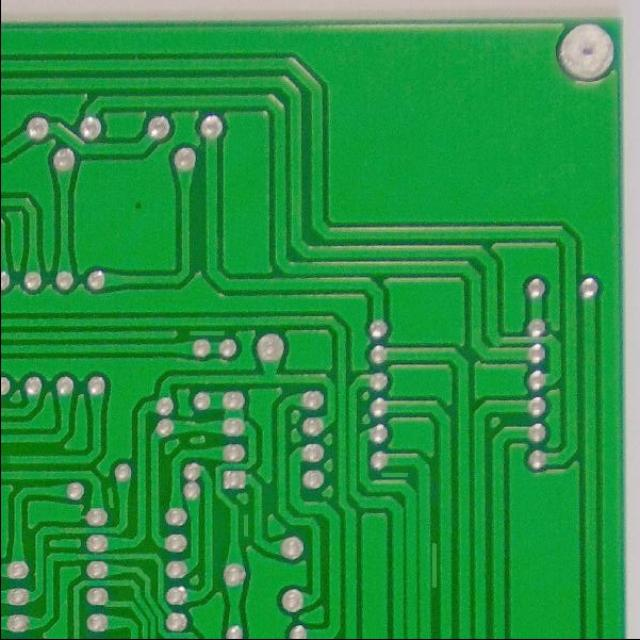Spurious_Cooper: (428, 539, 440, 591), (185, 326, 229, 340), (238, 510, 252, 540), (102, 484, 116, 511), (377, 468, 411, 478)
